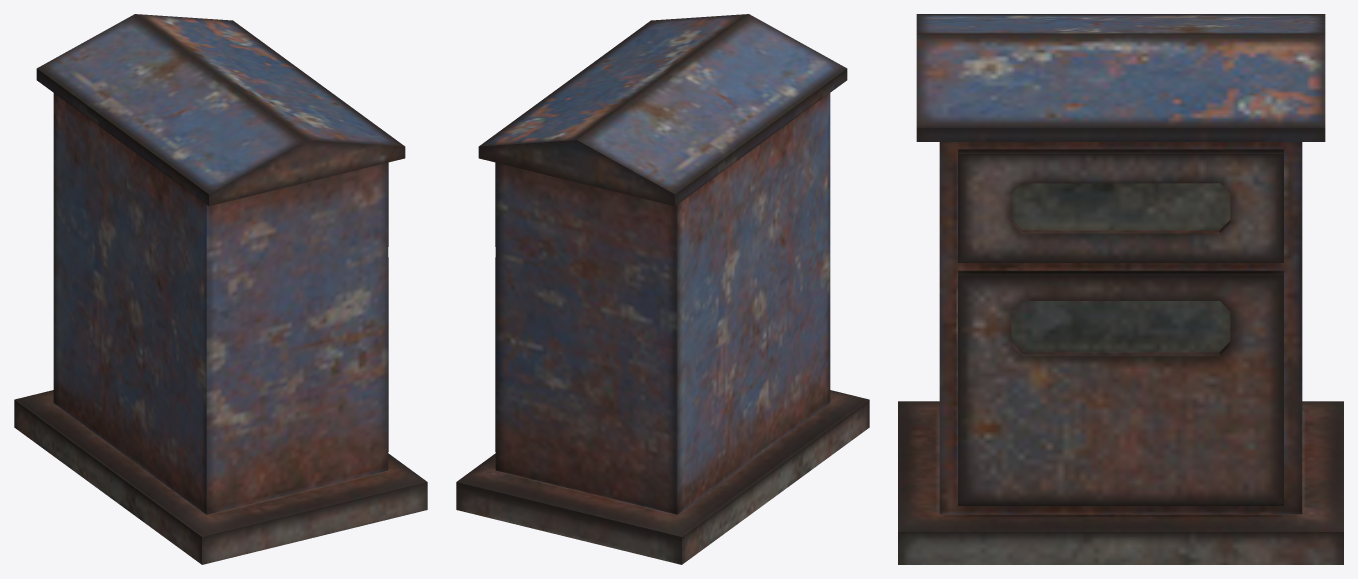
File: ElectricBox_S.FBX
3 renders of one model, left to right at view 1: azimuth 30°, elevation 25°; view 2: azimuth 150°, elevation 25°; view 3: azimuth 270°, elevation 25°, orthographic. The views are drawn at different scales.
Visible parts, largest first — view 1: ElectricBox_S; view 2: ElectricBox_S; view 3: ElectricBox_S.
Boxes of the visible parts, <box> form: ElectricBox_S: <box>14,14,427,564</box>; ElectricBox_S: <box>456,14,869,564</box>; ElectricBox_S: <box>898,14,1343,564</box>.
Bounding box in the file's own units: 57.72 × 95.78 × 83.25.
